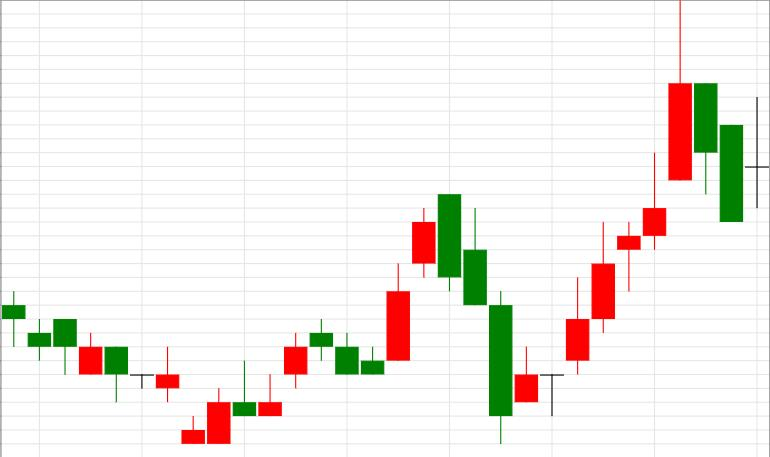bearish_engulfing_fall: (182, 194, 462, 444)
